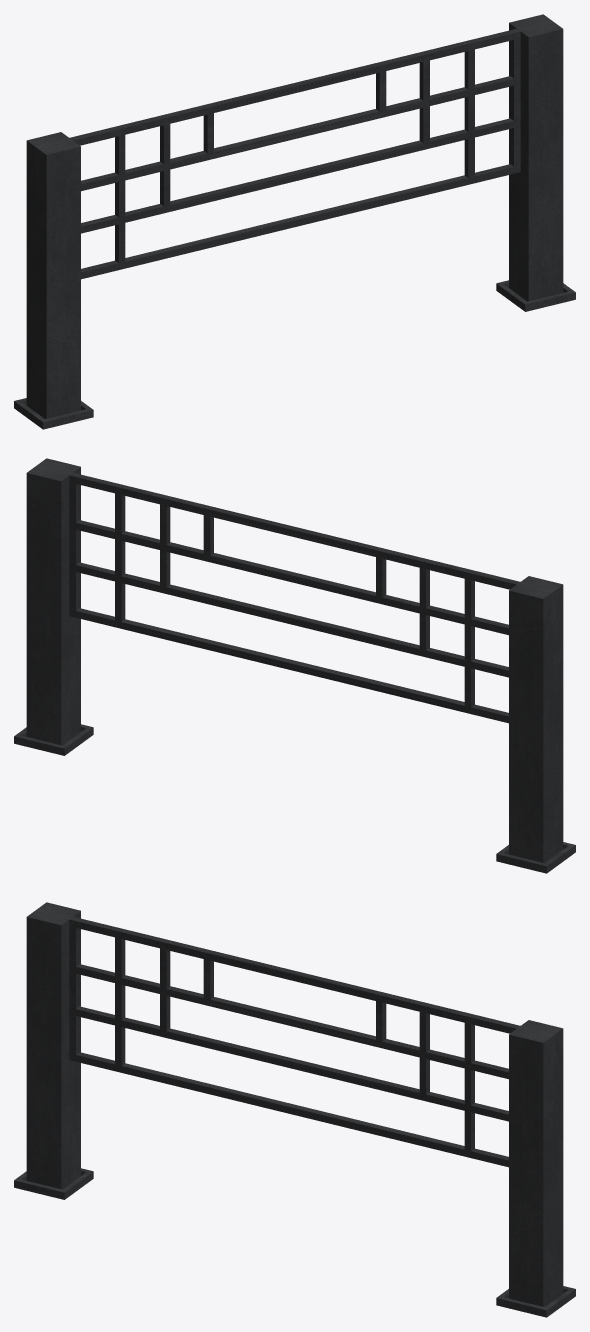
The model's file is fence.fbx.
The picture shows the model from 3 angles, top to bottom: view 1: azimuth 30°, elevation 25°; view 2: azimuth 150°, elevation 25°; view 3: azimuth 330°, elevation 25°; orthographic projection.
Parts seen in each view (by area): view 1: Fence; view 2: Fence; view 3: Fence.
Boxes of the visible parts, x1,y1,x2,y2 form: Fence: [14, 14, 575, 429]; Fence: [14, 458, 575, 873]; Fence: [14, 902, 575, 1317].
Size of the model in its own units: 407 by 196 by 38.62.
